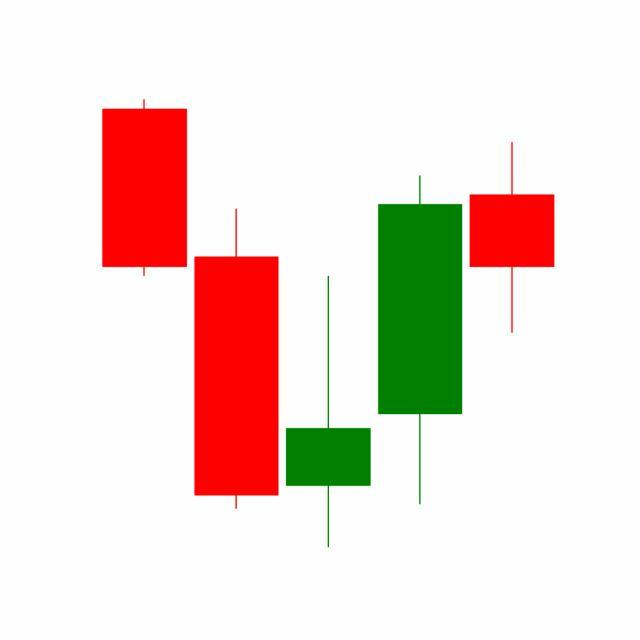Three Inside Up-Down: (190, 171, 467, 549)
